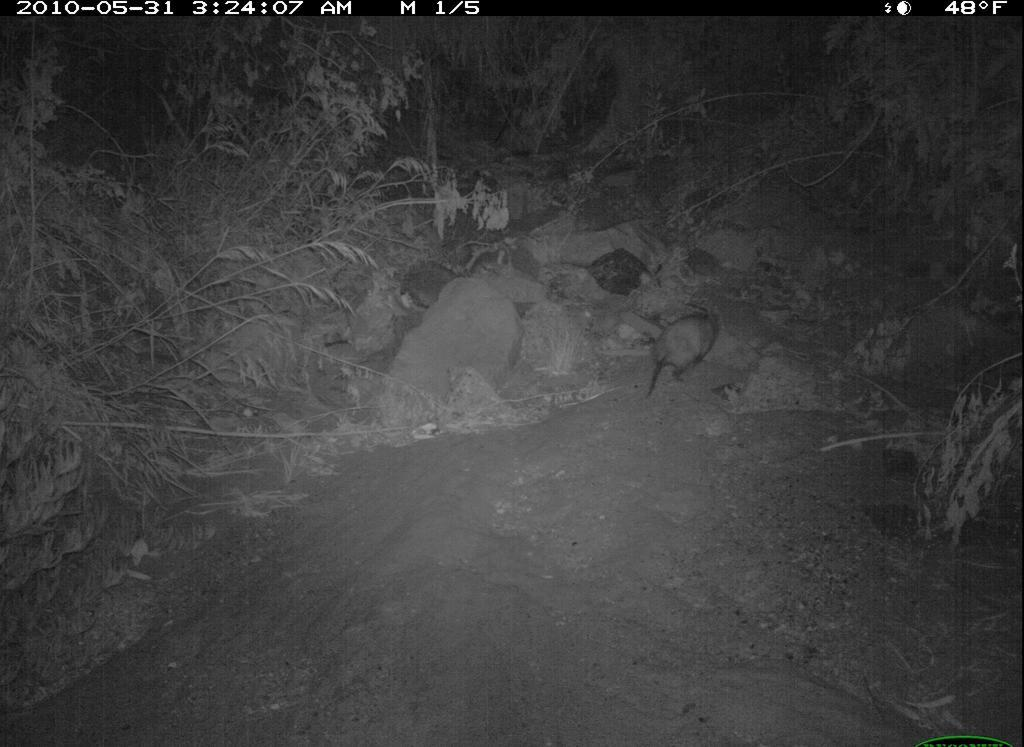opossum: (625, 289, 730, 400)
